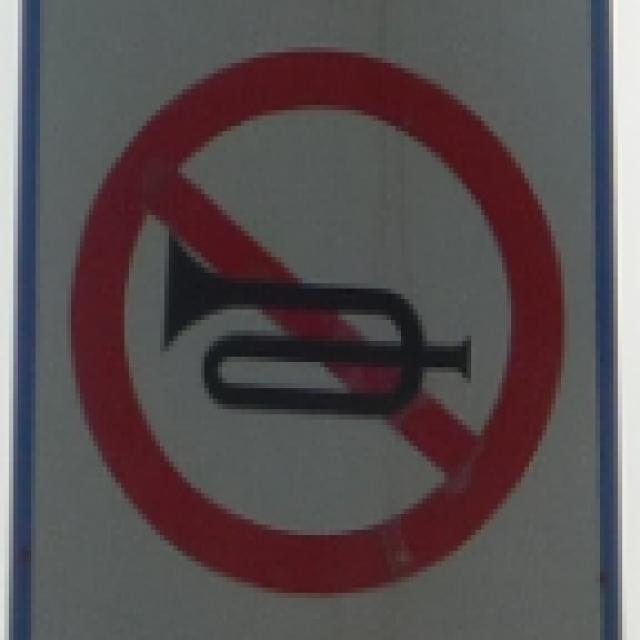No Horn: (69, 36, 571, 600)
